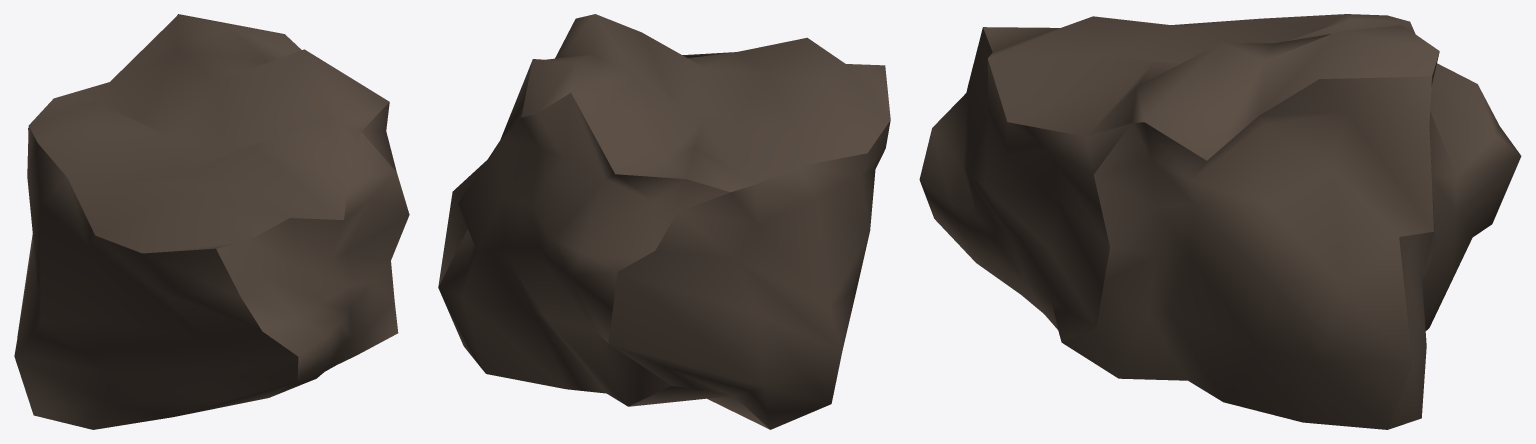
The model's file is Rock1.fbx.
3 views of the same model, side by side, from view 1: azimuth 30°, elevation 25°; view 2: azimuth 150°, elevation 25°; view 3: azimuth 270°, elevation 25° (orthographic). The views are drawn at different scales.
Visible parts, largest first — view 1: Rock1; view 2: Rock1; view 3: Rock1.
Boxes of the visible parts, x1,y1,x2,y2 form: Rock1: [14, 14, 409, 429]; Rock1: [438, 14, 890, 429]; Rock1: [919, 14, 1521, 429].
Bounding box in the file's own units: 72.3 × 65.06 × 88.44.
